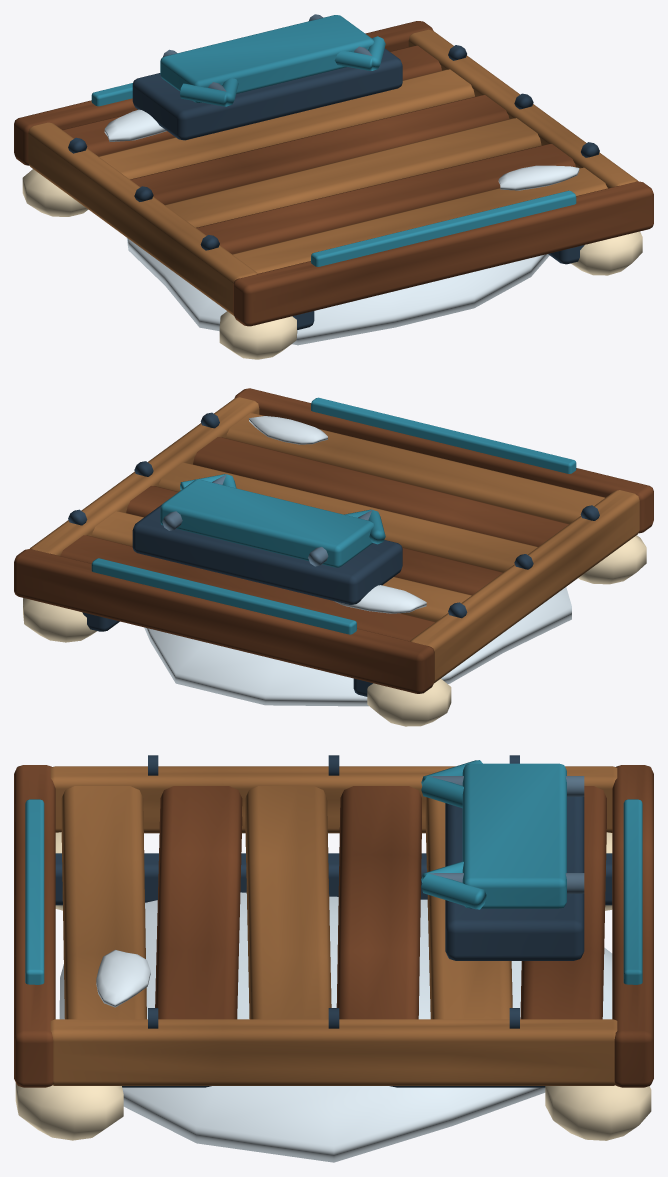
The model's file is pad_input.glb.
3 views of the same model, one above another, from view 1: azimuth 30°, elevation 25°; view 2: azimuth 150°, elevation 25°; view 3: azimuth 270°, elevation 25° (orthographic). The views are drawn at different scales.
Parts seen in each view (by area): view 1: pad_input; view 2: pad_input; view 3: pad_input.
Boxes of the visible parts, <box> form: pad_input: <box>14,14,653,359</box>; pad_input: <box>14,388,653,726</box>; pad_input: <box>14,755,653,1162</box>.
Bounding box in the file's own units: 1.91 × 0.6755 × 1.84.
